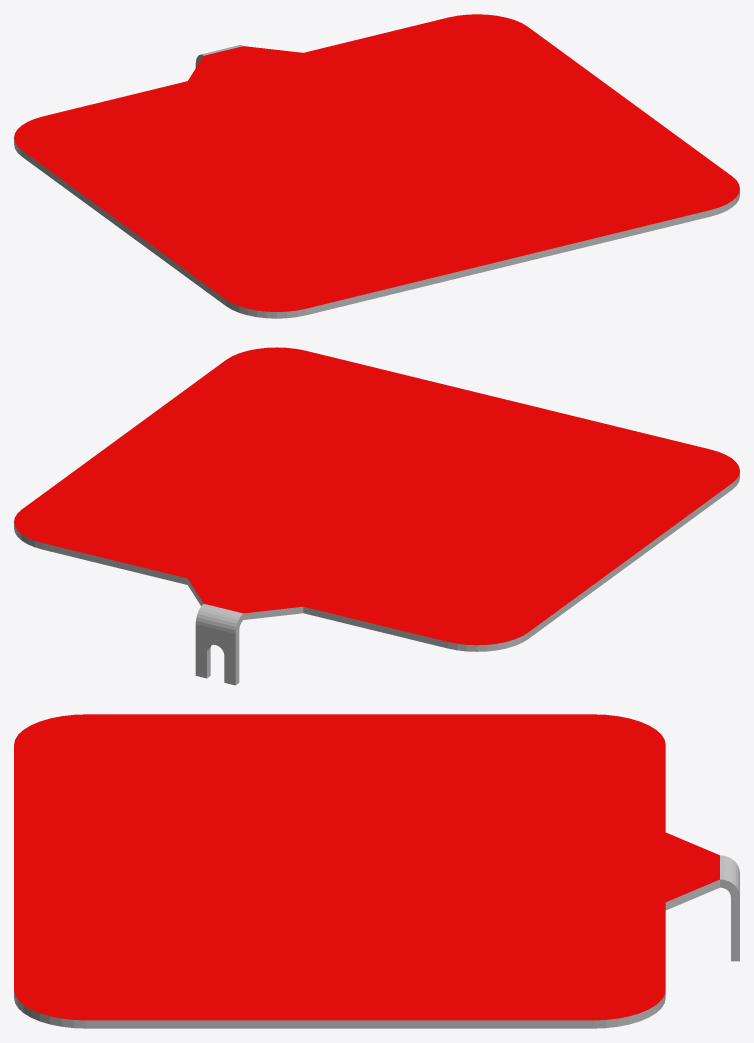
The model's file is AE048713_step_11.obj.
3 renders of one model, top to bottom at view 1: azimuth 30°, elevation 25°; view 2: azimuth 150°, elevation 25°; view 3: azimuth 270°, elevation 25°, orthographic. The views are drawn at different scales.
Visible parts, largest first — view 1: Object1; view 2: Object1; view 3: Object1.
Part boxes in pixels (<box>): Object1: <box>14,14,739,318</box>; Object1: <box>14,347,739,685</box>; Object1: <box>14,714,739,1028</box>.
Size of the model in its own units: 127 by 15.88 by 127.
